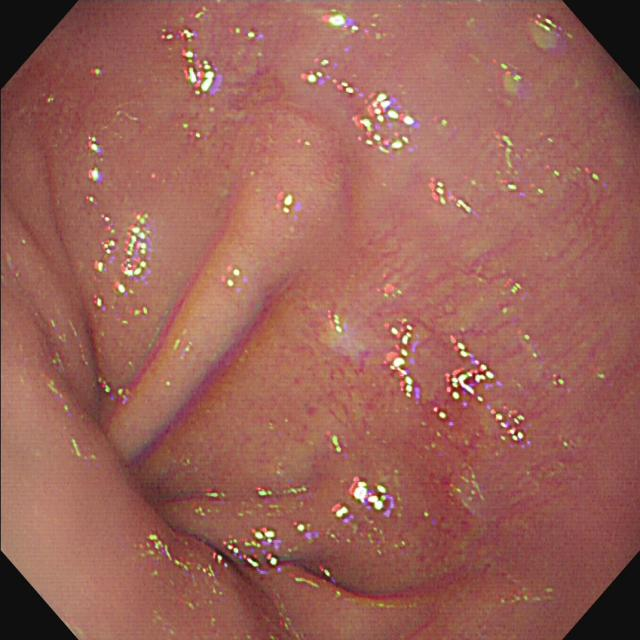I: (2, 2, 514, 634)
U: (214, 475, 396, 570), (301, 59, 421, 154), (433, 335, 531, 448), (95, 212, 156, 308), (161, 6, 220, 97), (385, 318, 424, 405), (324, 10, 360, 34)
